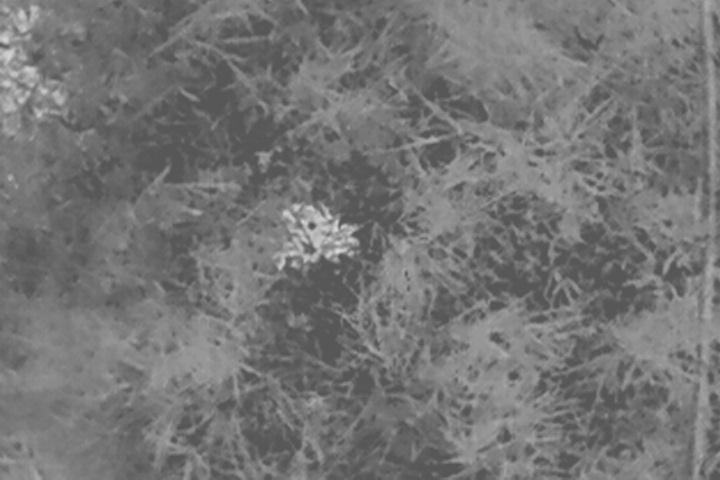landmine: (275, 201, 361, 271)
